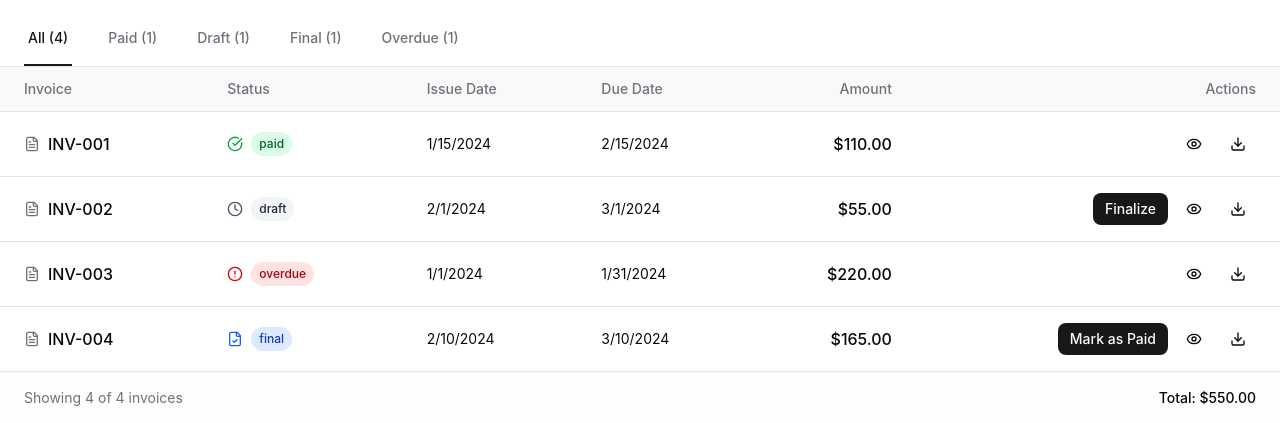
Test case: OrganizationInvoiceHistory › Filter Tabs › should filter to overdue invoices
Click the button "Overdue (1)": (420, 39) [378, 12, 463, 66]
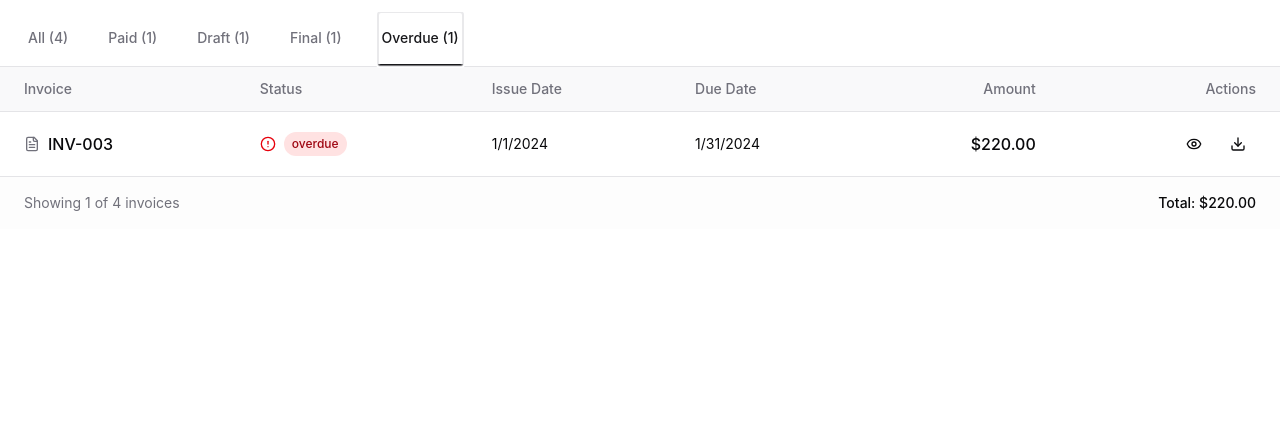
Expected: the text "INV-003" is shown, [48, 132, 113, 156]
Now the text "INV-001" is gone
Now the text "INV-002" is gone
